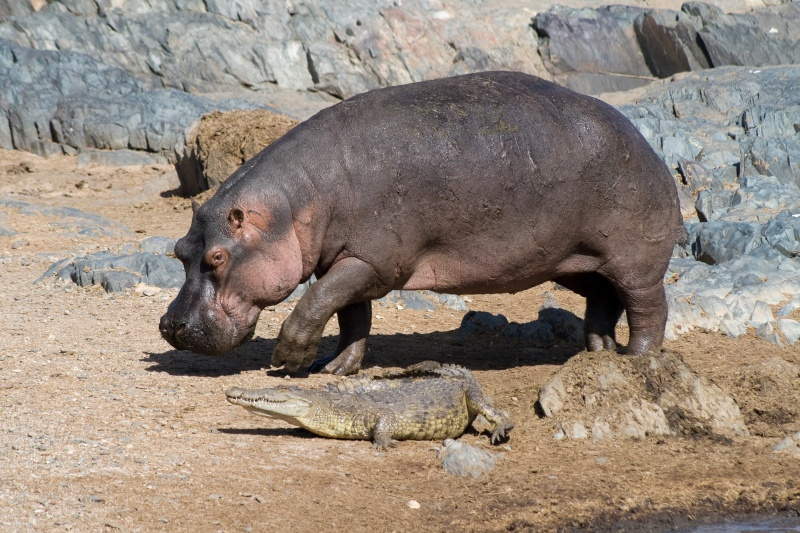hipopotamo: (152, 69, 683, 375)
